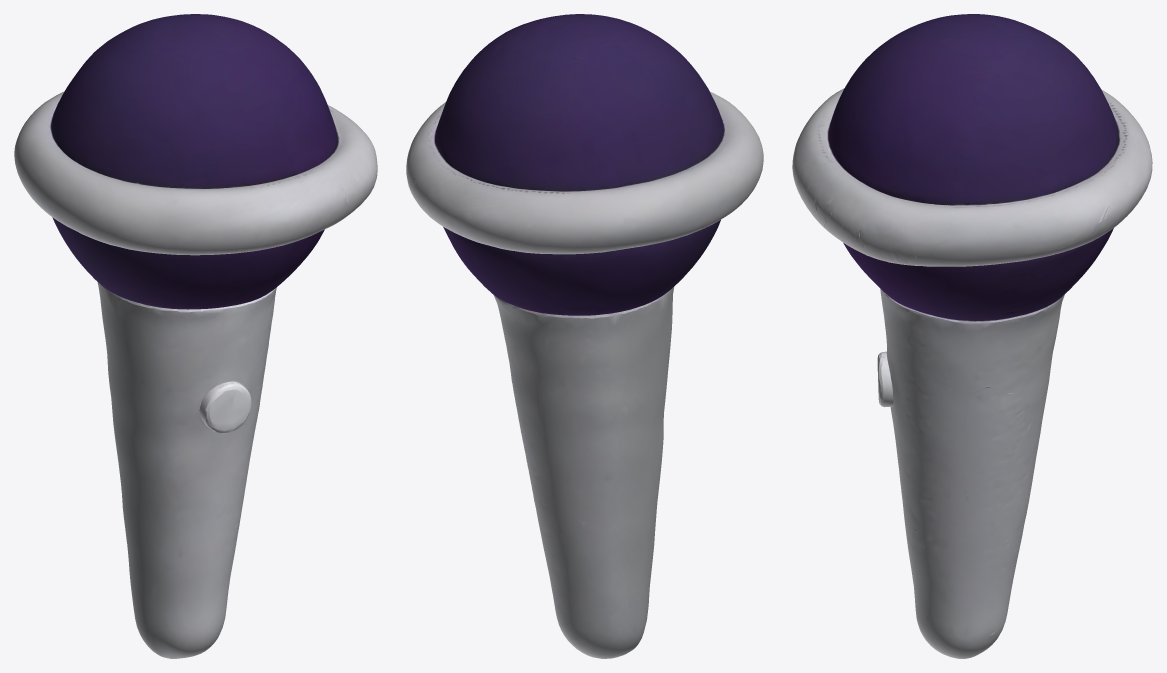
The model's file is microphone.glb.
The picture shows the model from 3 angles, left to right: view 1: azimuth 30°, elevation 25°; view 2: azimuth 150°, elevation 25°; view 3: azimuth 270°, elevation 25°; orthographic projection. The views are drawn at different scales.
Parts seen in each view (by area): view 1: model; view 2: model; view 3: model.
Boxes of the visible parts, x1,y1,x2,y2 form: model: (14, 14, 377, 658); model: (406, 14, 763, 658); model: (792, 14, 1152, 658).
Size of the model in its own units: 0.5179 by 1 by 0.514.
1 material, 1 textured.
